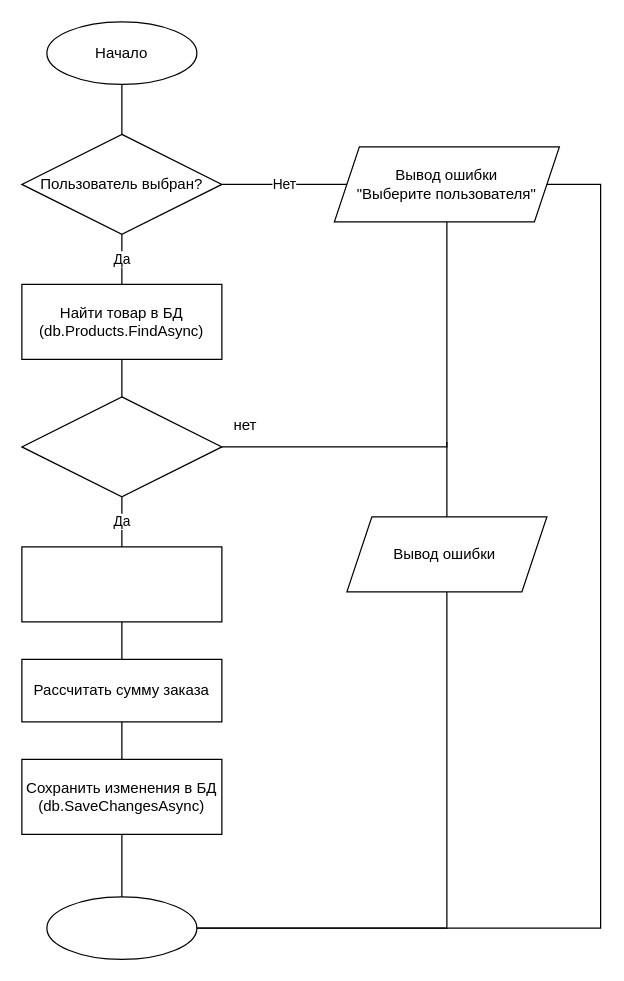
Some shapes in this 624 by 981 pixel diagram are drawn without their labels. The centre of each missing label's shape, as x and y in pixels:
Конец: (121,927)
Создать заказ в таблице orders и позицию в order_items: (121,584)
Товар найден?: (121,446)
